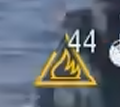1fire: (30, 55, 99, 89)
